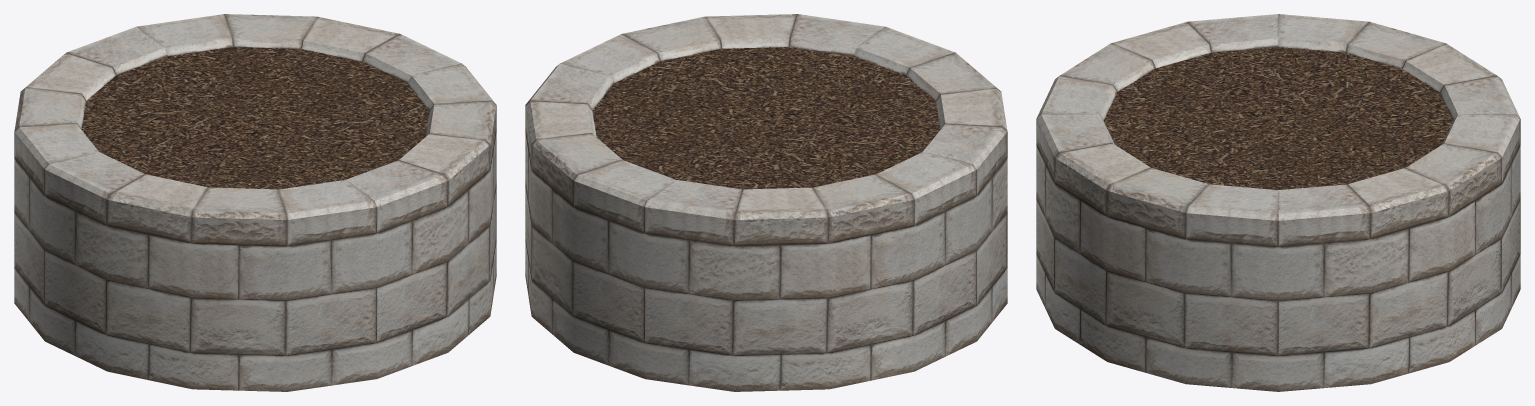
The model's file is flower_bed_d.FBX.
3 renders of one model, left to right at view 1: azimuth 30°, elevation 25°; view 2: azimuth 150°, elevation 25°; view 3: azimuth 270°, elevation 25°, orthographic.
Parts seen in each view (by area): view 1: flower_bed_d; view 2: flower_bed_d; view 3: flower_bed_d.
Boxes of the visible parts, x1,y1,x2,y2 form: flower_bed_d: (14, 14, 496, 391); flower_bed_d: (525, 14, 1007, 391); flower_bed_d: (1036, 14, 1520, 391).
Size of the model in its own units: 100 by 40 by 100.
